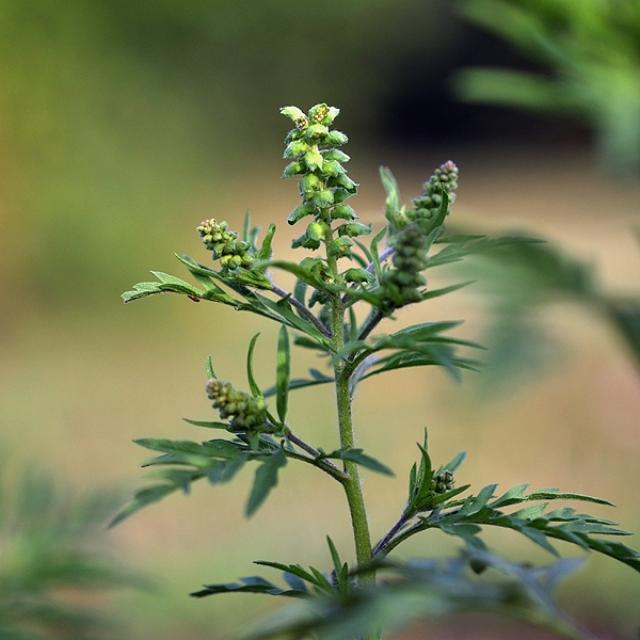ambrosia: (190, 110, 400, 360)
